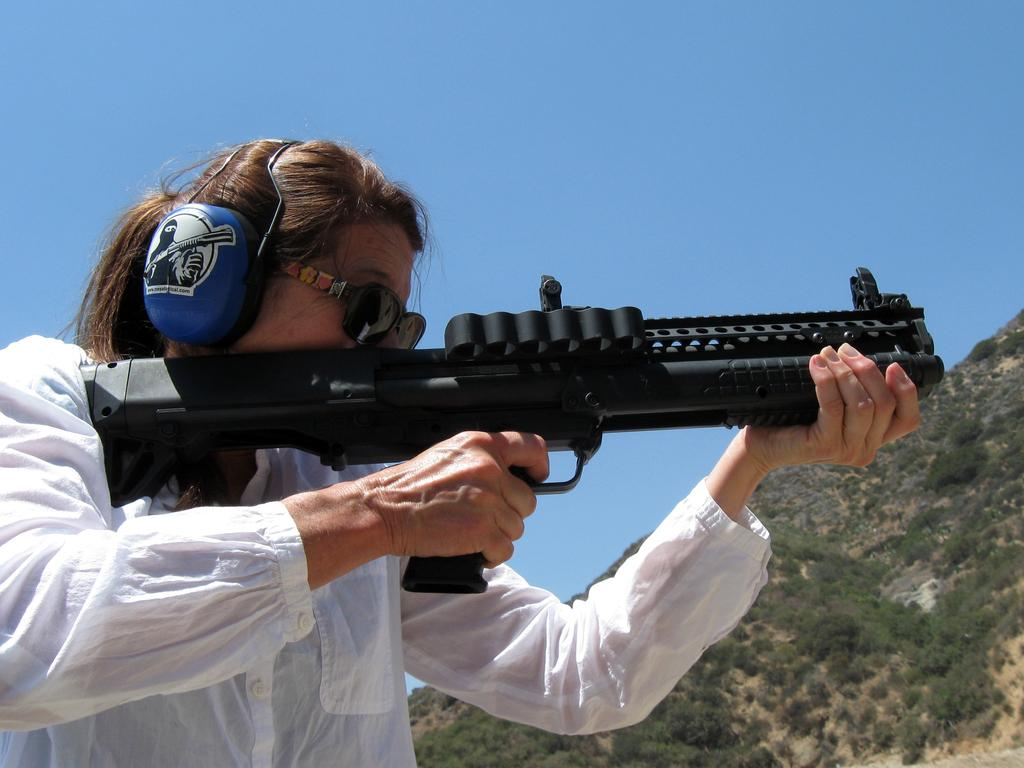Rifle: (48, 256, 983, 580)
